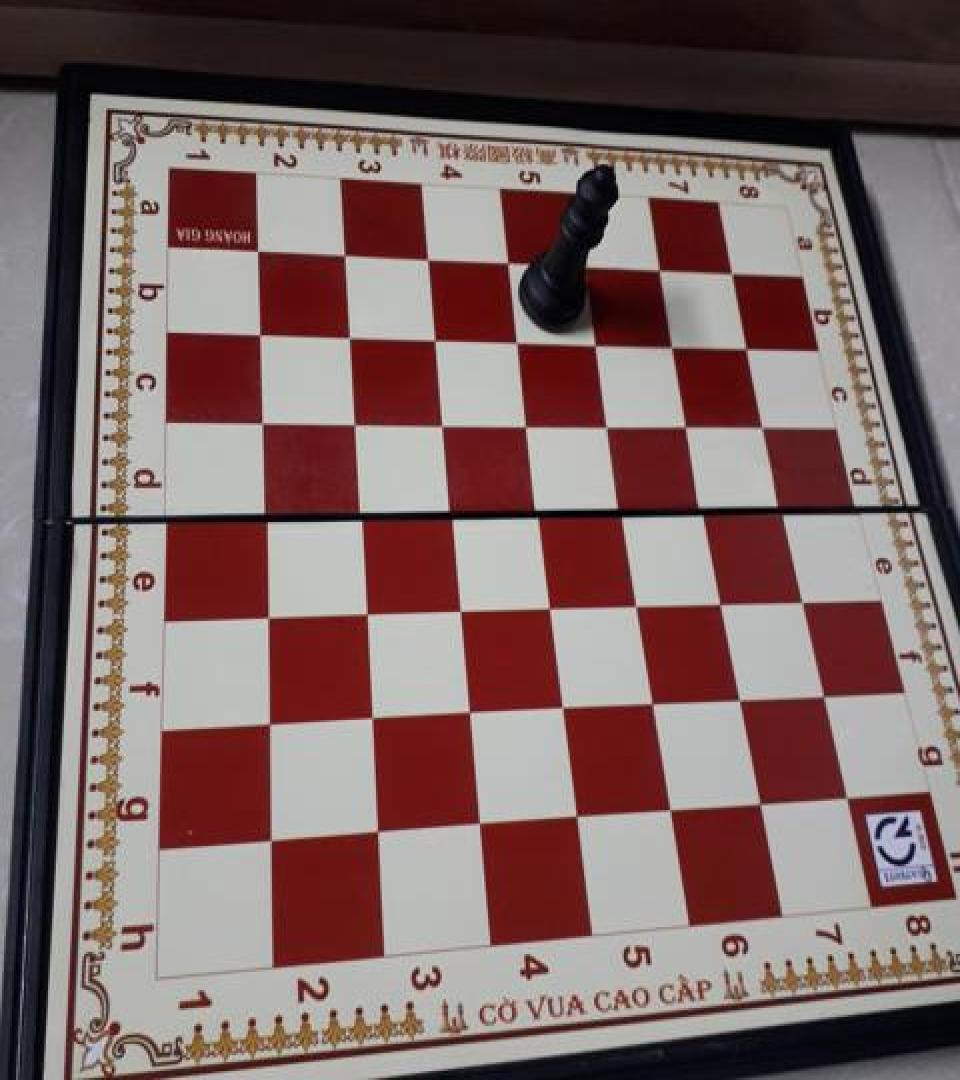xcorner: (418, 317, 452, 356), (716, 253, 750, 291), (644, 250, 678, 288), (569, 246, 603, 284), (491, 242, 525, 280), (410, 238, 444, 276), (327, 234, 361, 272), (240, 230, 274, 268), (733, 328, 767, 366), (658, 325, 692, 363), (581, 323, 615, 361), (501, 320, 535, 358), (331, 314, 365, 352), (242, 310, 276, 348), (750, 406, 784, 444), (673, 405, 707, 443), (594, 404, 628, 442), (511, 403, 545, 441), (426, 402, 460, 440), (337, 400, 371, 438), (244, 398, 278, 436), (768, 490, 802, 528), (689, 490, 723, 528), (608, 490, 642, 528), (523, 490, 557, 528), (434, 492, 468, 530), (342, 492, 376, 530), (246, 492, 280, 530), (788, 580, 822, 618), (707, 580, 741, 618), (622, 583, 656, 621), (535, 585, 569, 623), (443, 588, 477, 626), (348, 591, 382, 629), (249, 593, 283, 631), (809, 674, 843, 712), (725, 678, 759, 716), (638, 683, 672, 721), (548, 688, 582, 726), (453, 692, 487, 730), (354, 696, 388, 734), (251, 702, 285, 740), (832, 776, 866, 814), (745, 783, 779, 821), (655, 790, 689, 828), (562, 796, 596, 834), (464, 804, 498, 842), (361, 811, 395, 849), (254, 819, 288, 857)
